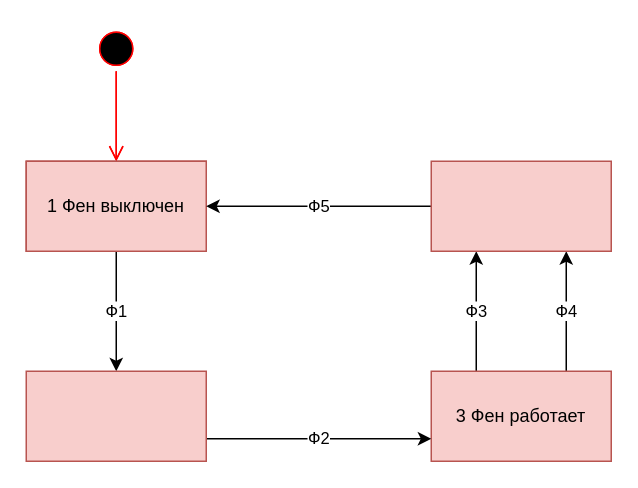
Image size: 638x488. Some labels were removed from this diagram. The centre of each missing label's shape, as x and y in pixels:
2 Фен включается: the point at 115,415
4 Фен выключается: the point at 520,205
